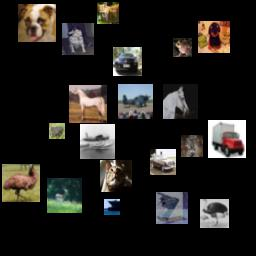airplane: (118, 84, 153, 119), (80, 124, 115, 159), (156, 192, 188, 224)
automobile: (113, 47, 142, 76), (150, 149, 176, 175)
bird: (2, 164, 40, 202), (200, 199, 229, 228)
cat: (100, 160, 132, 192), (97, 2, 119, 24)
deer: (47, 178, 82, 213), (181, 135, 203, 157)
dog: (18, 4, 56, 42), (62, 23, 94, 55), (198, 21, 230, 53)
frog: (173, 38, 192, 57), (49, 123, 65, 139)
ship: (104, 199, 120, 215)
truck: (208, 120, 246, 158)
